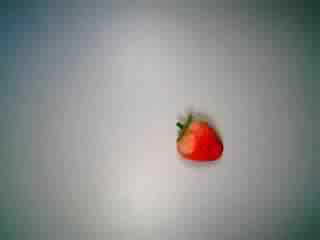strawberry: (163, 110, 231, 174)
